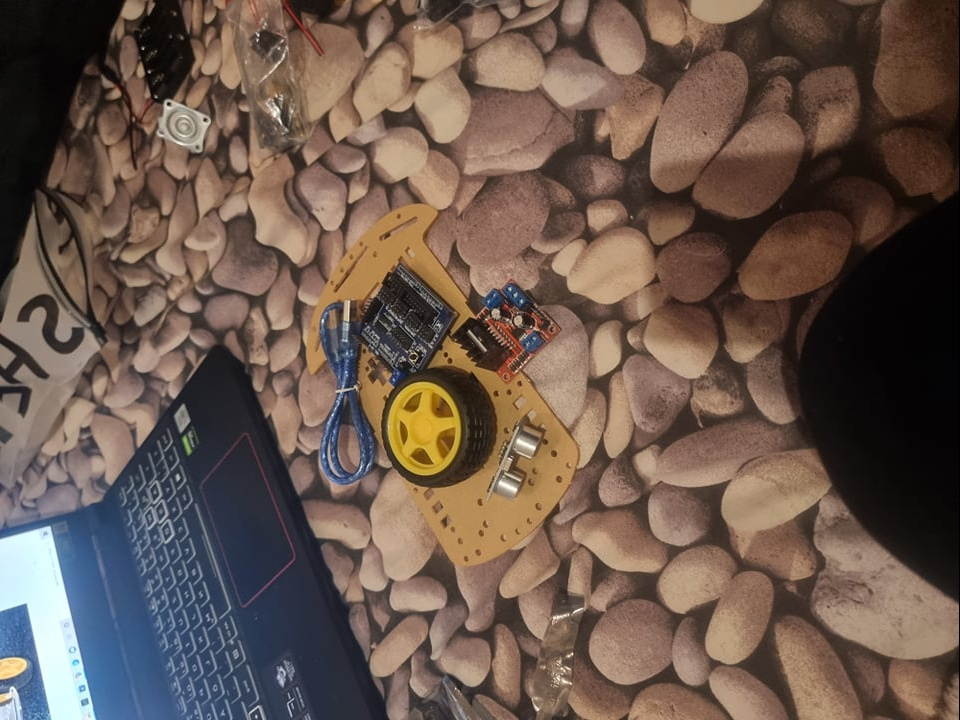5V EXPANSION: (356, 262, 461, 386)
BATTERY BOX: (133, 1, 199, 103)
MOTOR: (453, 273, 561, 382)
SENSOR: (486, 420, 547, 502)
